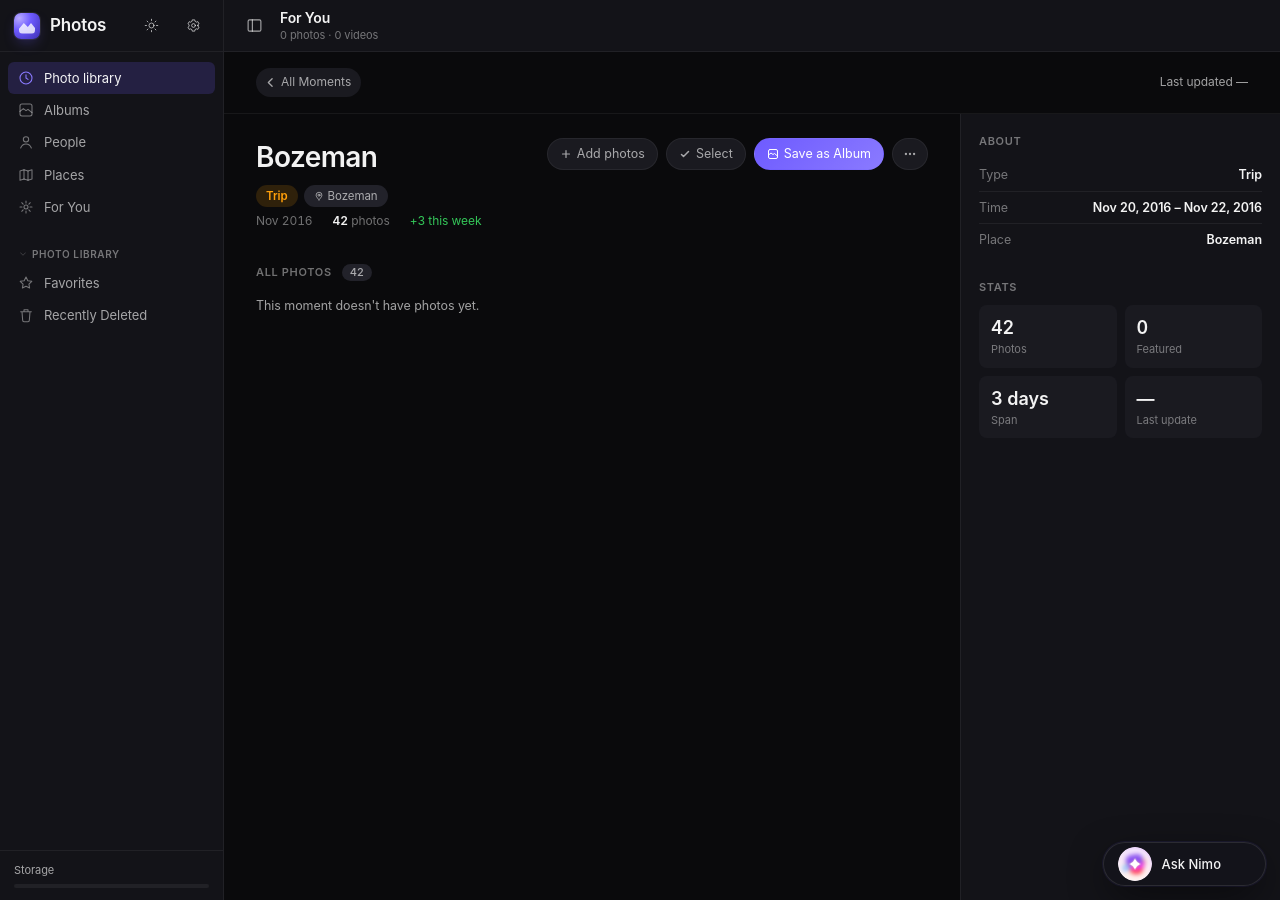
Test: delete moment › clicking Delete in the more menu opens a confirmation first — it does not delete immediately
This screenshot has width=1280, height=900.
Click the button with test id "mo-more" at [910, 154], box [892,138,928,170]
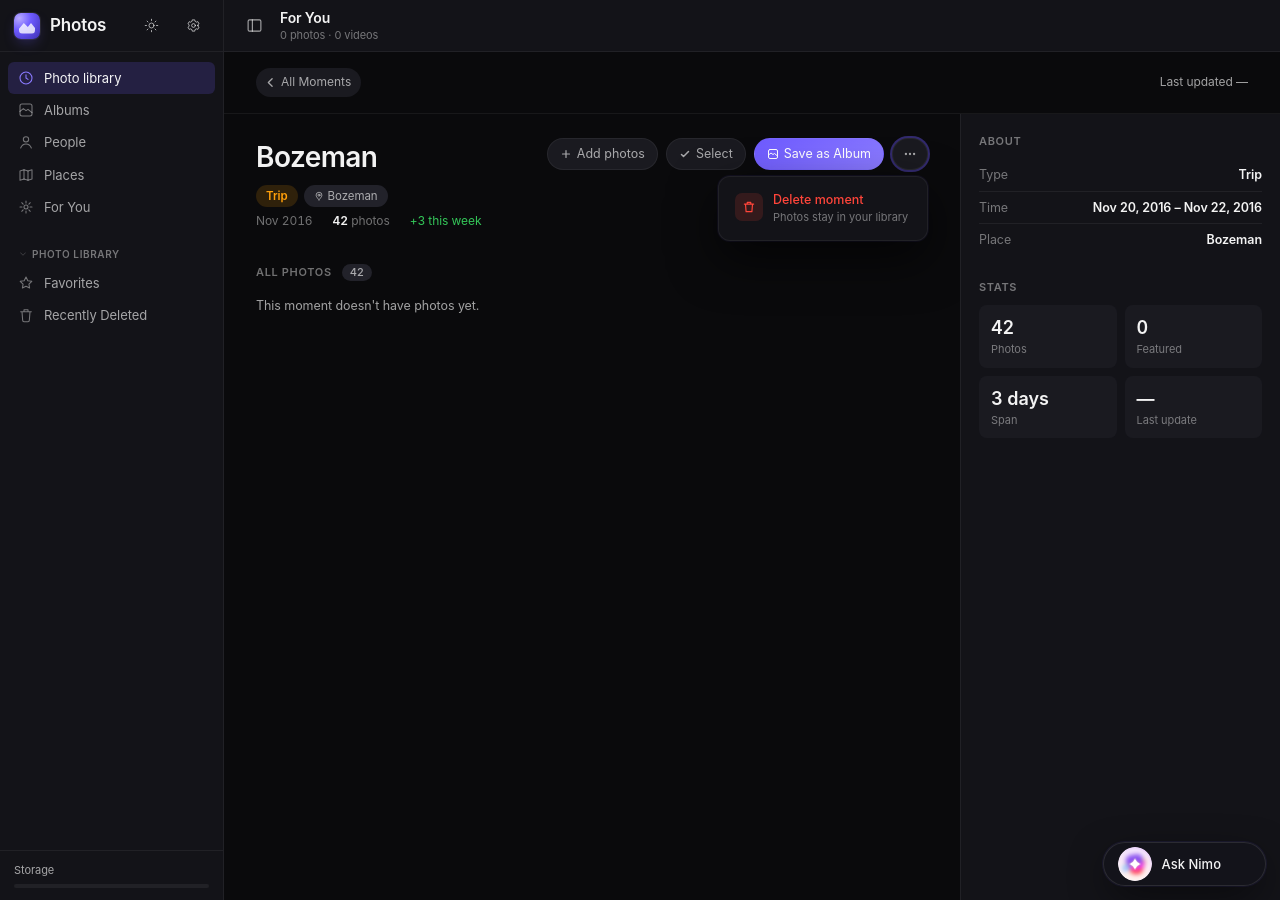
Click the button with test id "mo-delete" at [823, 208], box [725,183,921,234]
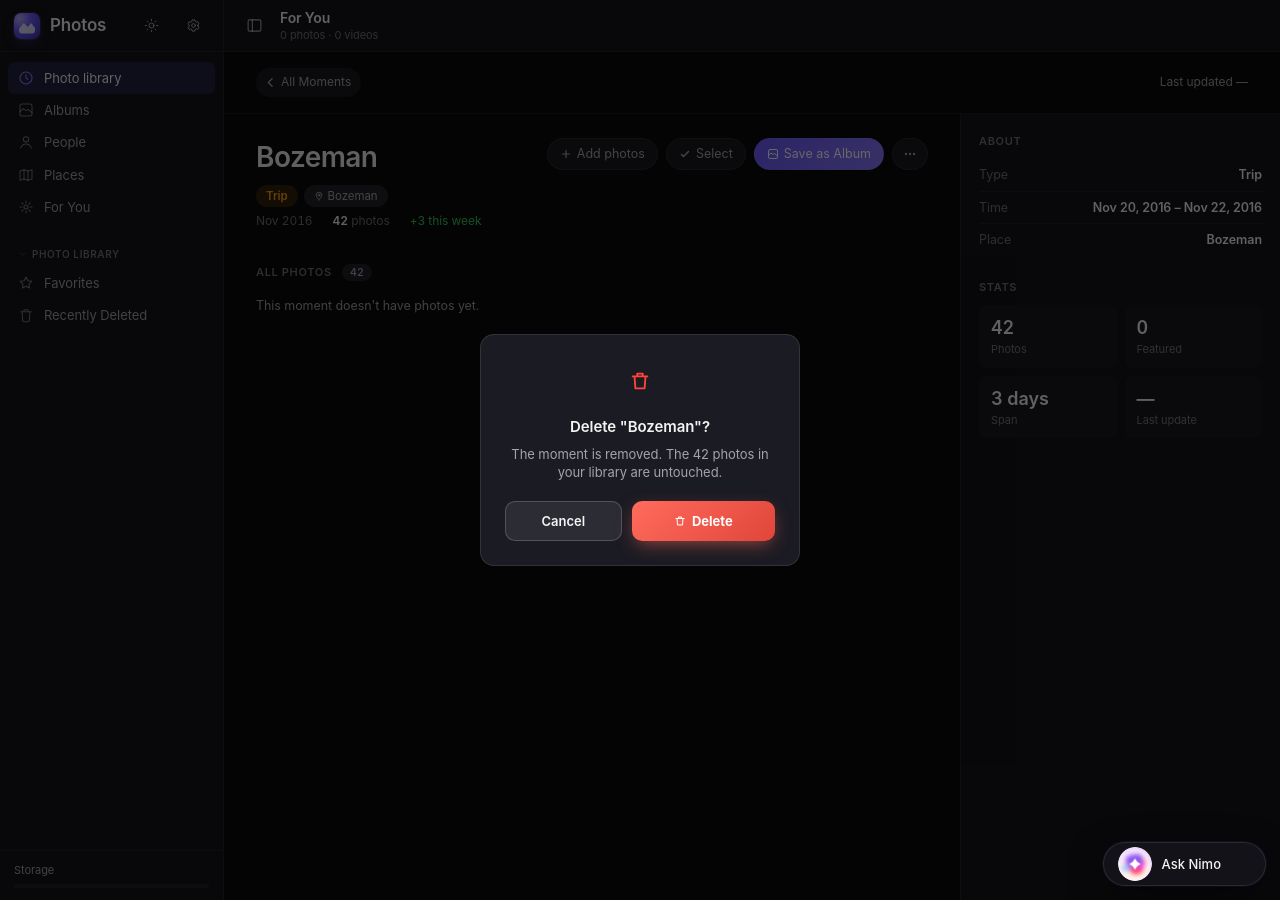
expect the element with test id "mo-delete-confirm" is shown: met
